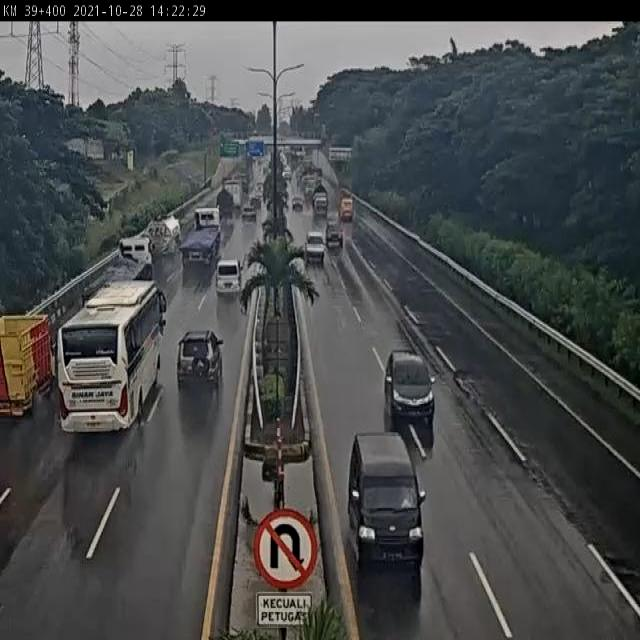Car: (384, 347, 438, 429), (177, 328, 226, 389), (302, 233, 327, 266), (325, 221, 344, 250), (290, 195, 306, 211), (240, 205, 257, 220)
Truck: (0, 312, 58, 423), (80, 233, 158, 307), (178, 206, 224, 268), (148, 212, 184, 258), (222, 176, 243, 208), (336, 189, 354, 222), (216, 188, 234, 220), (311, 182, 329, 214)
Van: (347, 432, 427, 570), (215, 260, 244, 299)
